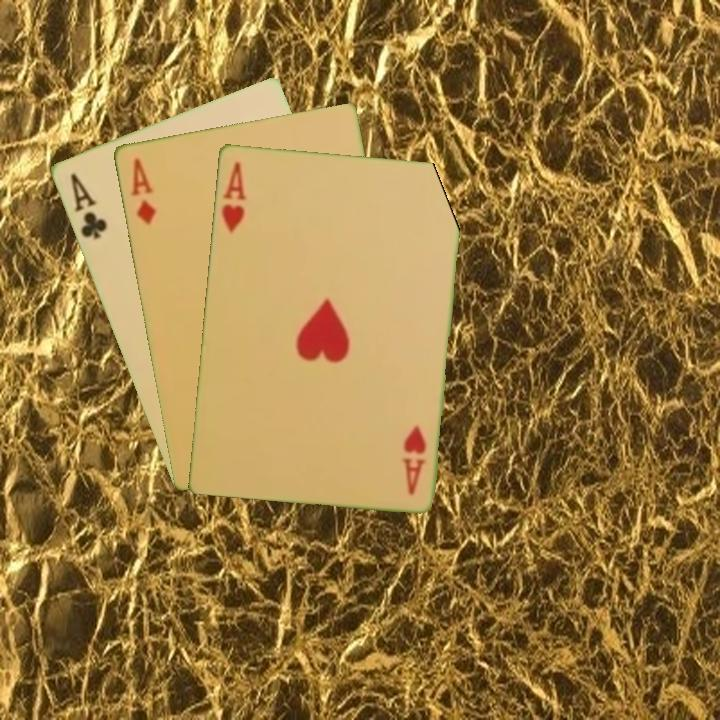Ac: (66, 170, 110, 242)
Ad: (127, 154, 159, 228)
Ah: (217, 158, 249, 235), (400, 421, 428, 498)
